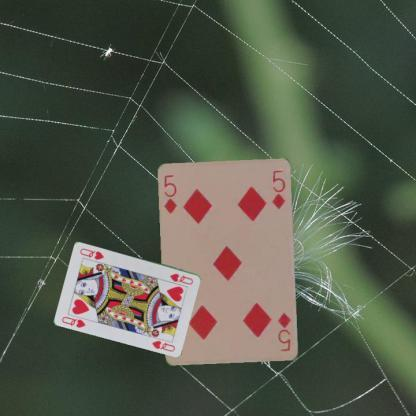5d: (161, 172, 179, 215), (276, 310, 292, 352)
Qh: (168, 270, 194, 286), (60, 314, 87, 328)
